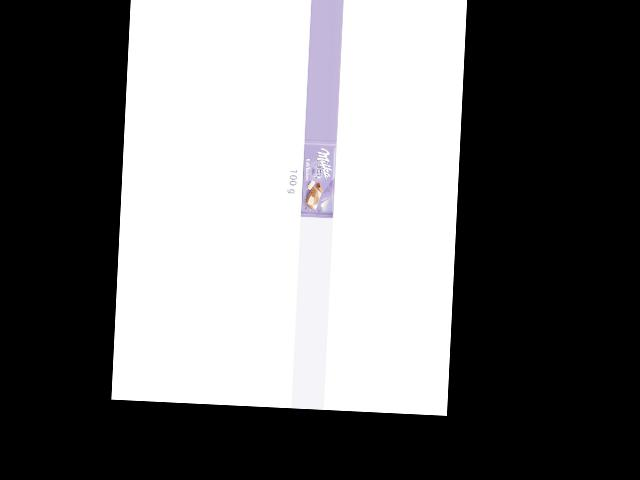chocolate: (295, 139, 337, 219)
